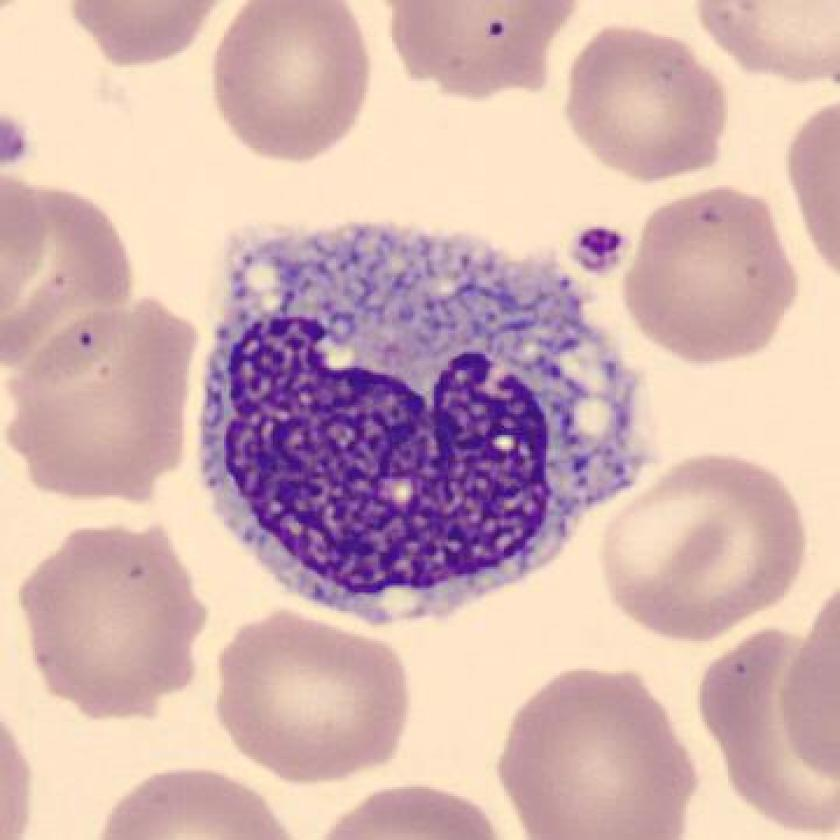monocyte: (176, 193, 682, 642)
